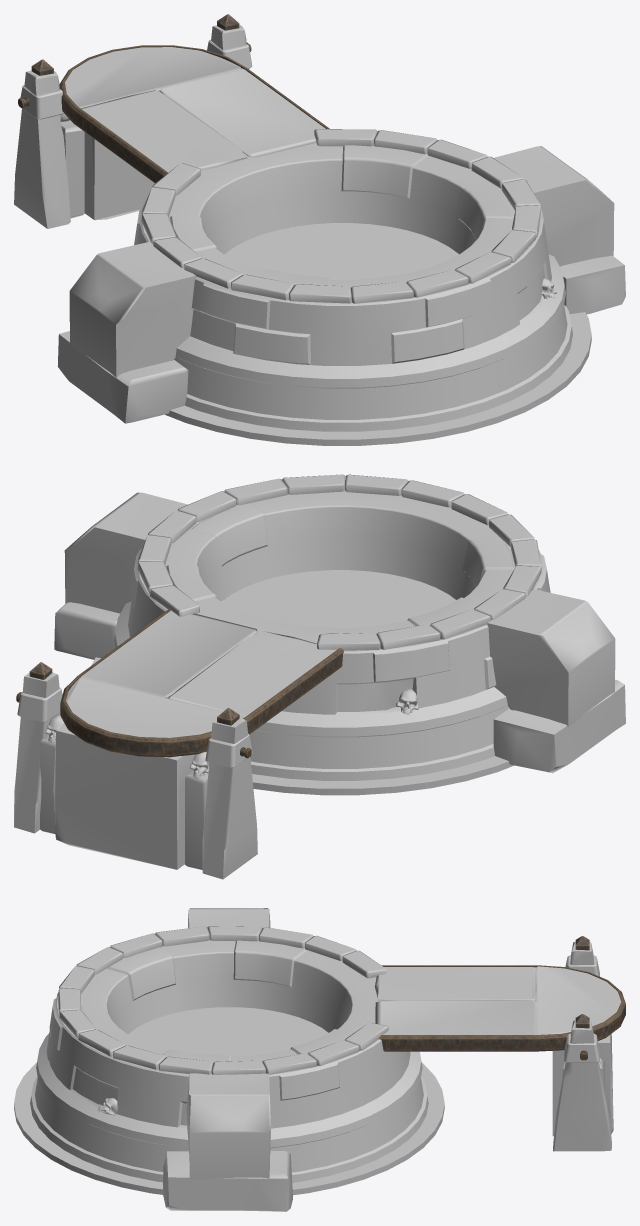
3 renders of one model, top to bottom at view 1: azimuth 30°, elevation 25°; view 2: azimuth 150°, elevation 25°; view 3: azimuth 270°, elevation 25°, orthographic. The views are drawn at different scales.
Parts seen in each view (by area): view 1: SM_Dowdun_Altar_A_01_LOD0; view 2: SM_Dowdun_Altar_A_01_LOD0; view 3: SM_Dowdun_Altar_A_01_LOD0.
Part boxes in pixels (x1,y1,x2,y2): SM_Dowdun_Altar_A_01_LOD0: (14, 14, 625, 445); SM_Dowdun_Altar_A_01_LOD0: (14, 474, 625, 879); SM_Dowdun_Altar_A_01_LOD0: (14, 908, 625, 1211).
Bounding box in the file's own units: 4.06 × 1.23 × 4.97.
